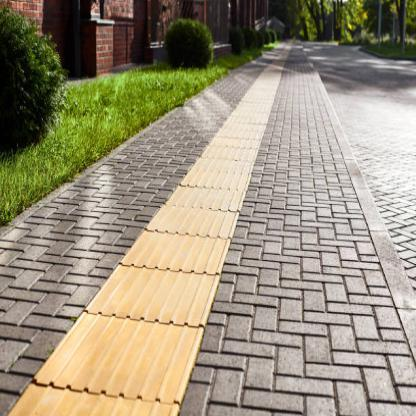podotacti: (9, 82, 280, 414)
